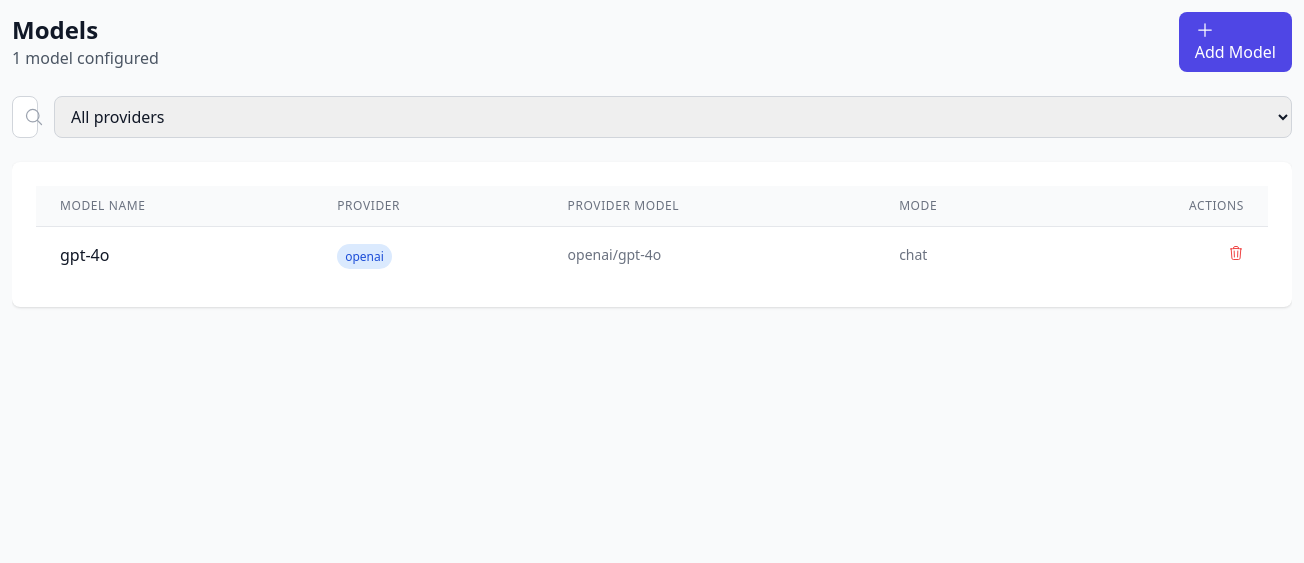
Scenario: Models › opens Add Model form when button clicked
What coordinates should you click on to do the following:
click the button "Add Model"
I would click on:
 (1235, 42)
Its box is [1179,12,1292,72].
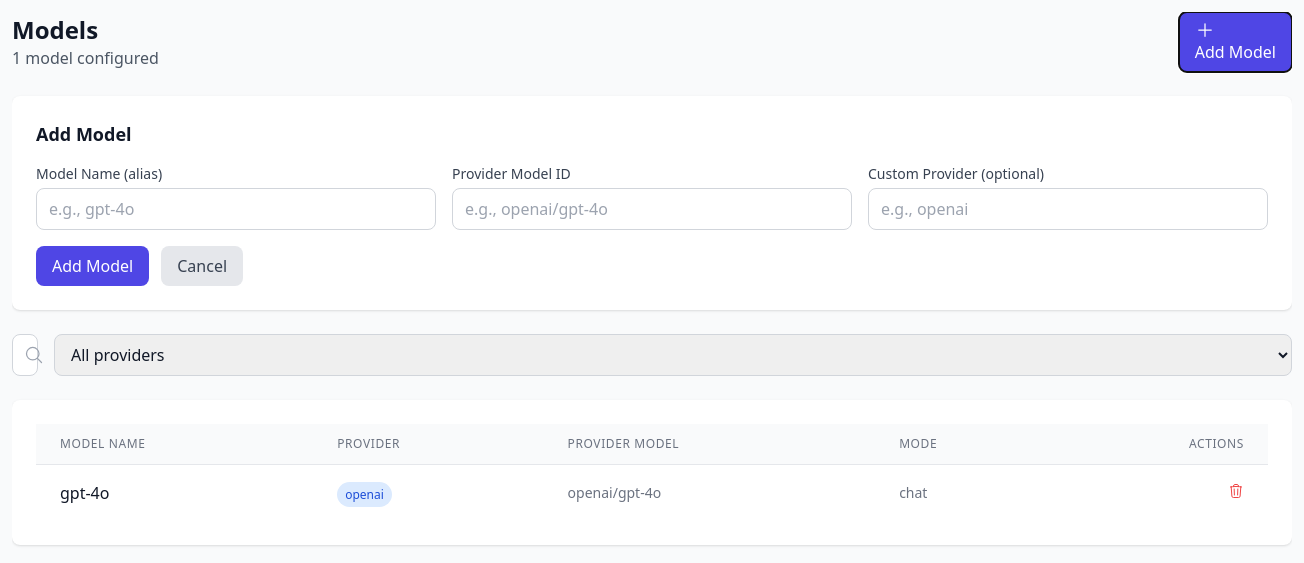
Now the field labelled "Model Name (alias)" is shown, box [36,188,436,230]
